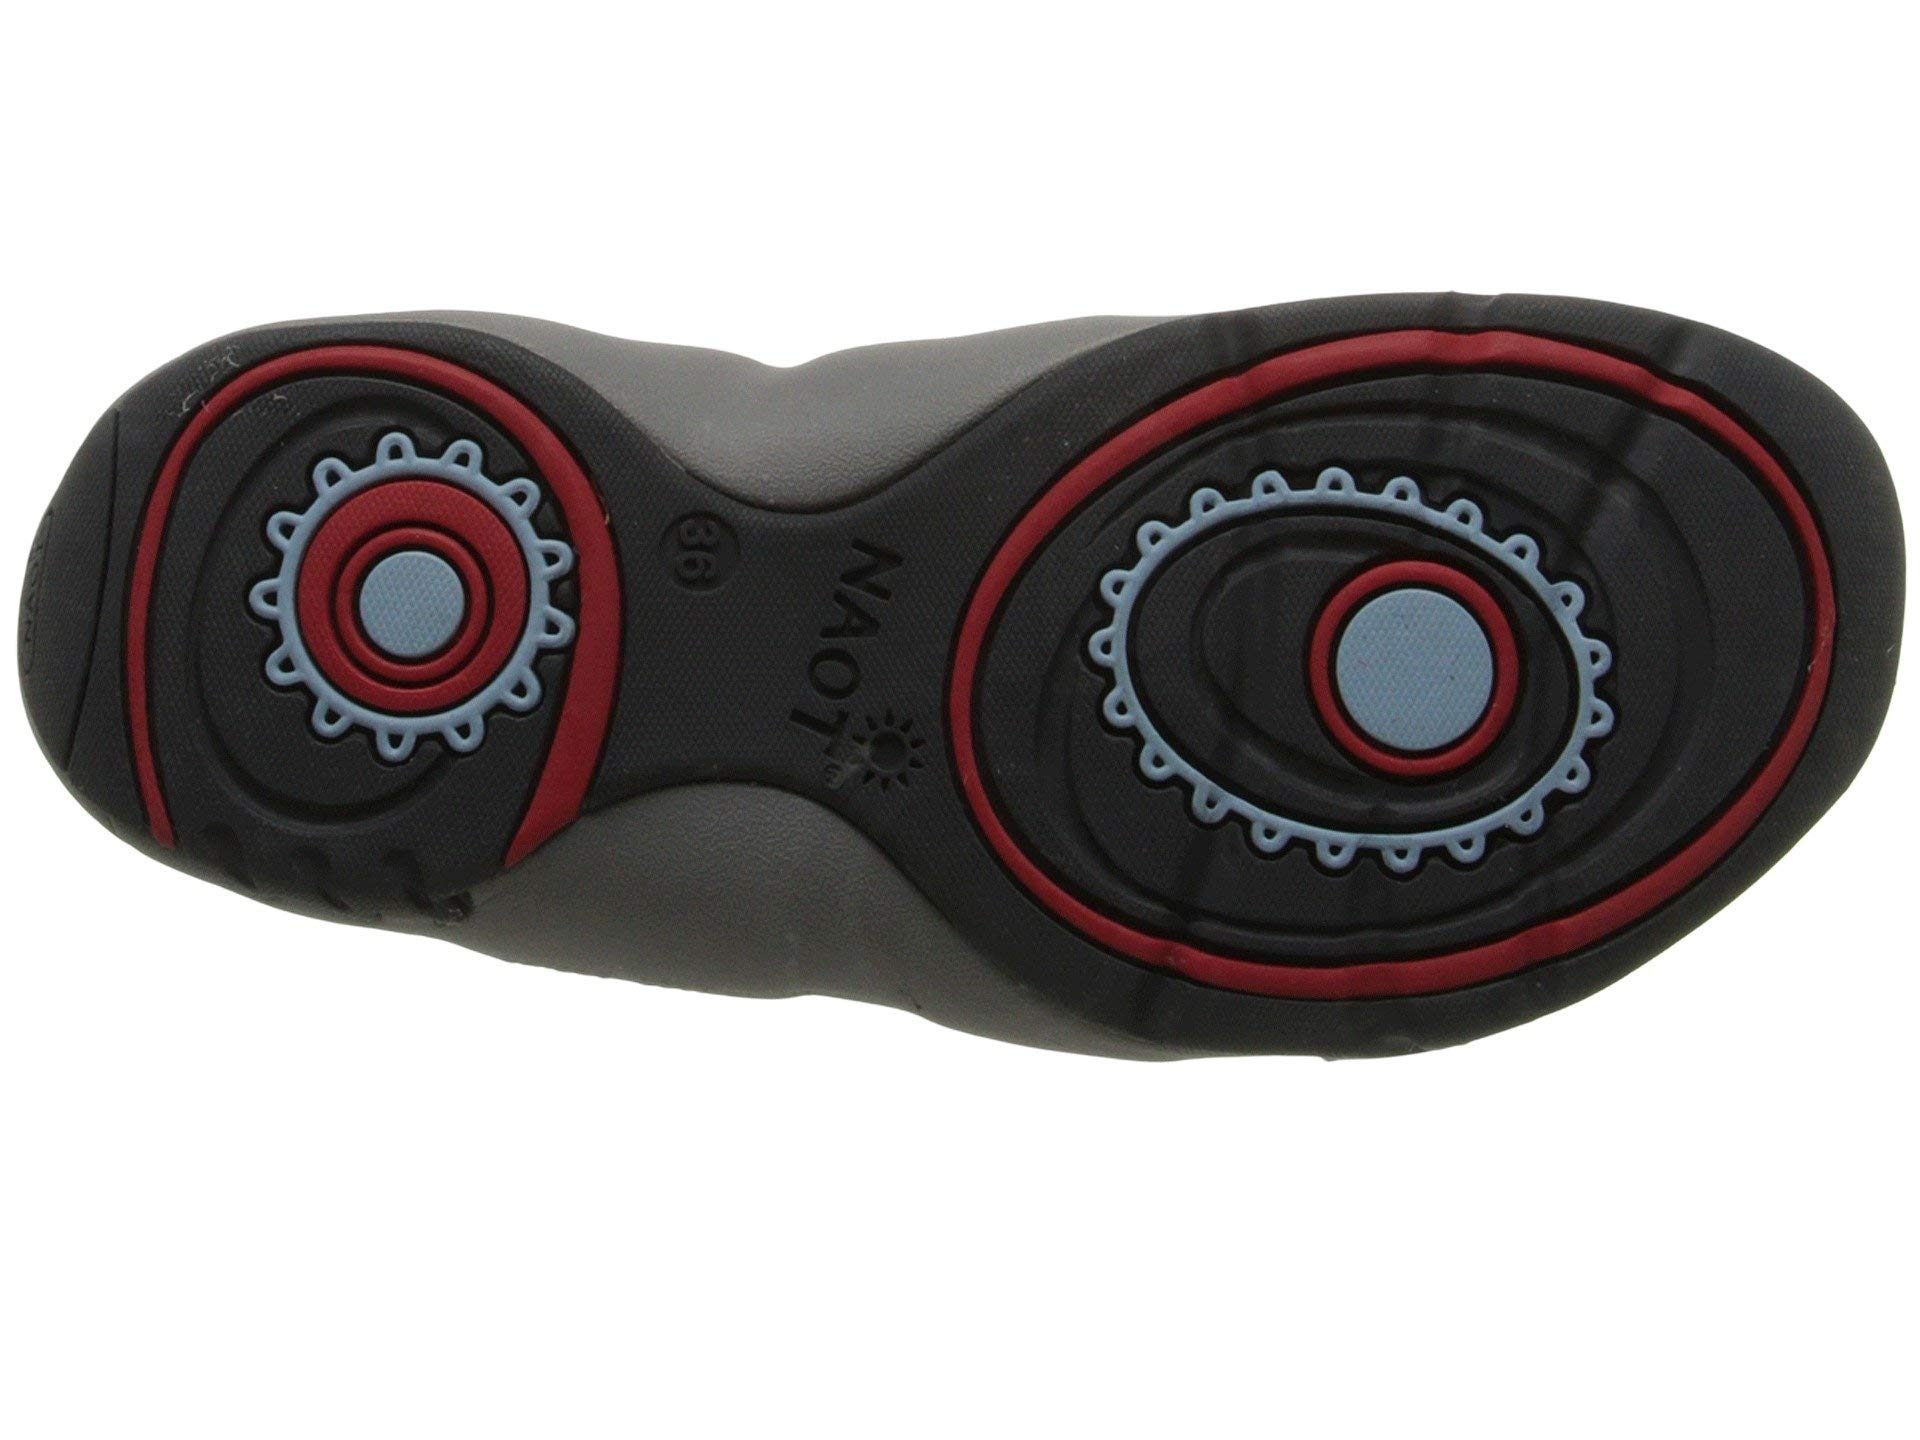circle: (1089, 481, 1628, 867), (299, 481, 537, 722), (633, 498, 757, 611)
line: (1089, 481, 1628, 867), (76, 399, 224, 835)
other: (1089, 481, 1628, 867), (779, 514, 943, 812)
text: (779, 514, 943, 812), (633, 498, 757, 611)
triangle: (779, 514, 943, 812)
